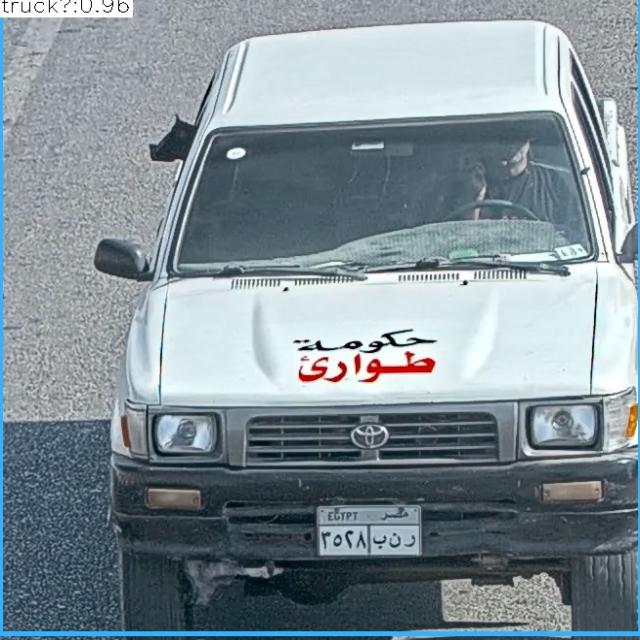windshield: (168, 114, 588, 258)
